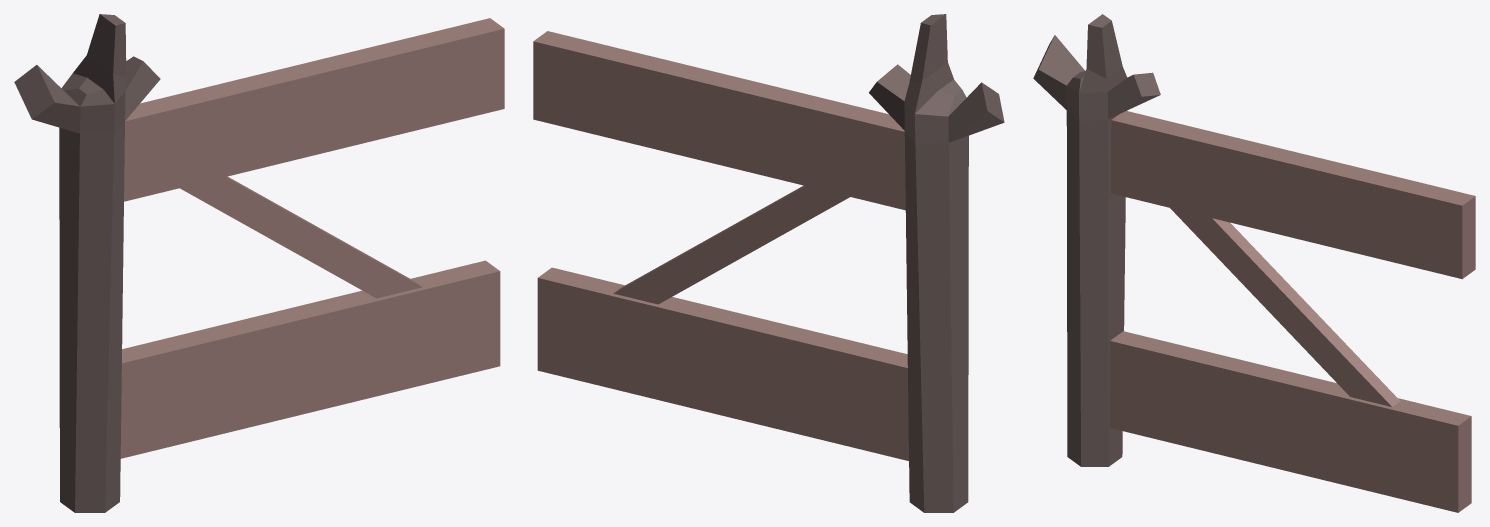
The model's file is fence3.fbx.
3 views of the same model, side by side, from view 1: azimuth 30°, elevation 25°; view 2: azimuth 150°, elevation 25°; view 3: azimuth 330°, elevation 25° (orthographic). The views are drawn at different scales.
Visible parts, largest first — view 1: Props_fences.002; view 2: Props_fences.002; view 3: Props_fences.002.
Part boxes in pixels (box(x1,y1,x2,y2)): Props_fences.002: box(14, 14, 504, 512); Props_fences.002: box(533, 14, 1004, 512); Props_fences.002: box(1033, 14, 1475, 512).
Bounding box in the file's own units: 140 × 138 × 21.66.
